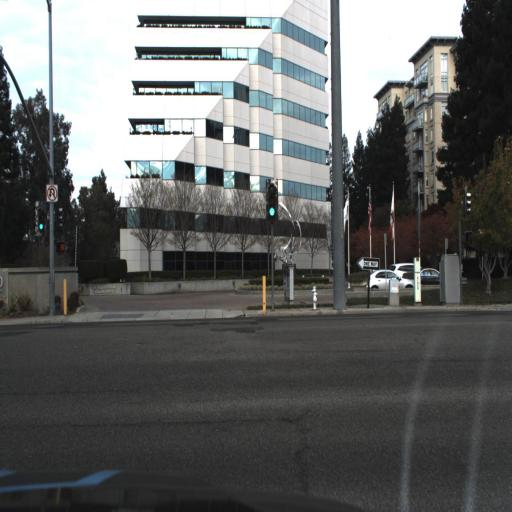car: (369, 270, 415, 292), (390, 258, 425, 286), (422, 265, 441, 289)
trafficLight-Green: (262, 178, 281, 238), (33, 209, 50, 248), (266, 179, 277, 220), (37, 214, 46, 238)
